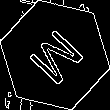M_SE: (22, 21, 88, 89)
